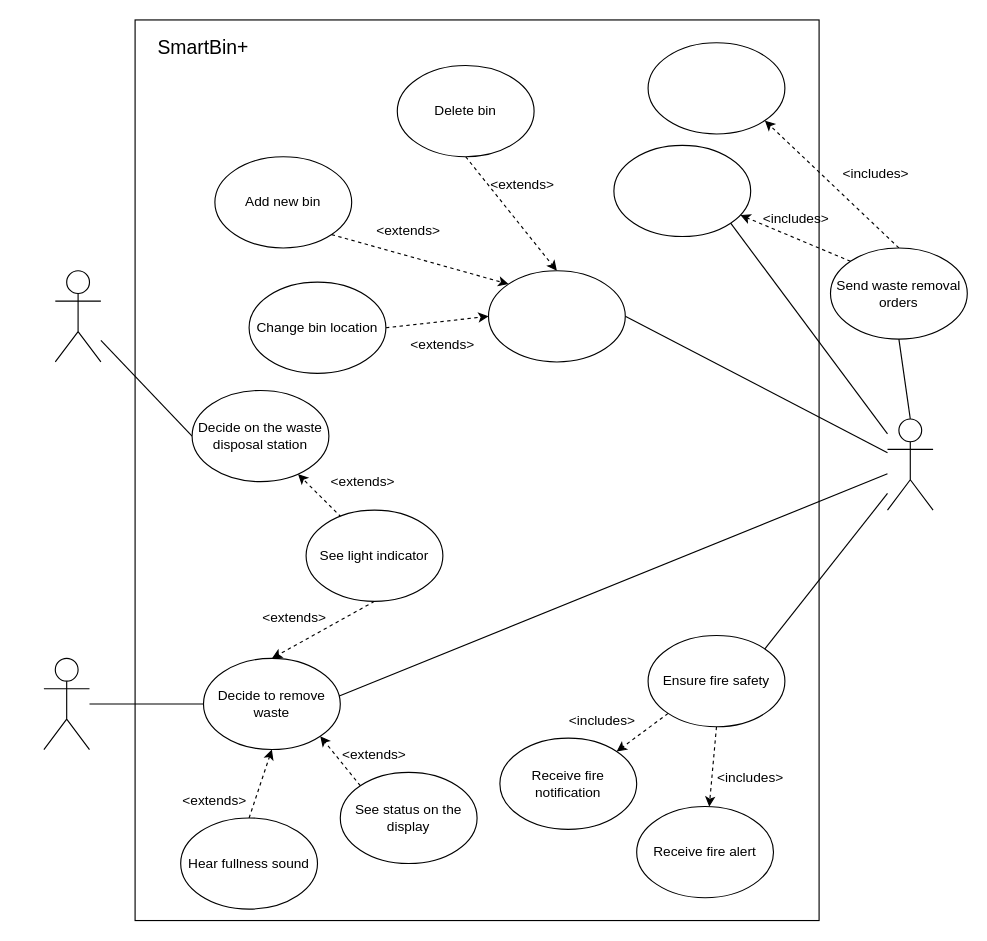
This 987x941 diagram has some shape labels left out. The shapes that lost their labels are listed below. From the top down, each one's box as (x1, y1, x2, y2) in pixels, then its label:
(647, 42, 785, 134): Receive waste status notification
(613, 144, 751, 237): See bin overview
(54, 270, 101, 362): Client
(487, 270, 625, 362): Manage bins
(886, 418, 933, 510): Manager
(43, 657, 89, 750): Waste collector
